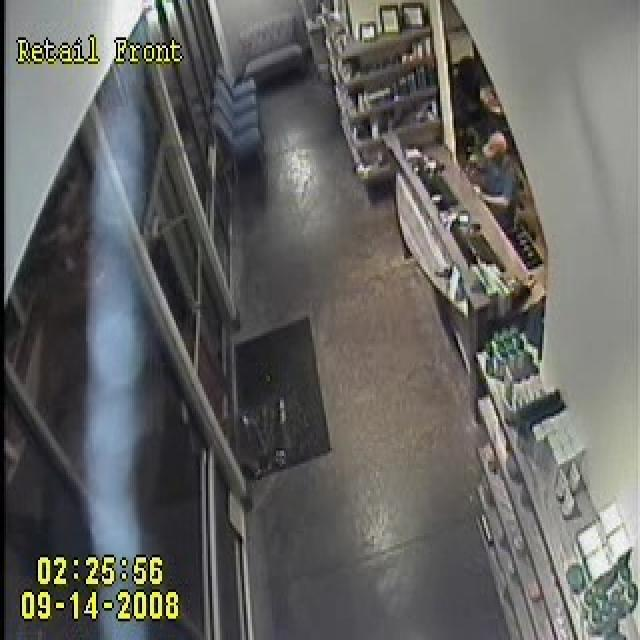thief: (461, 118, 538, 266)
